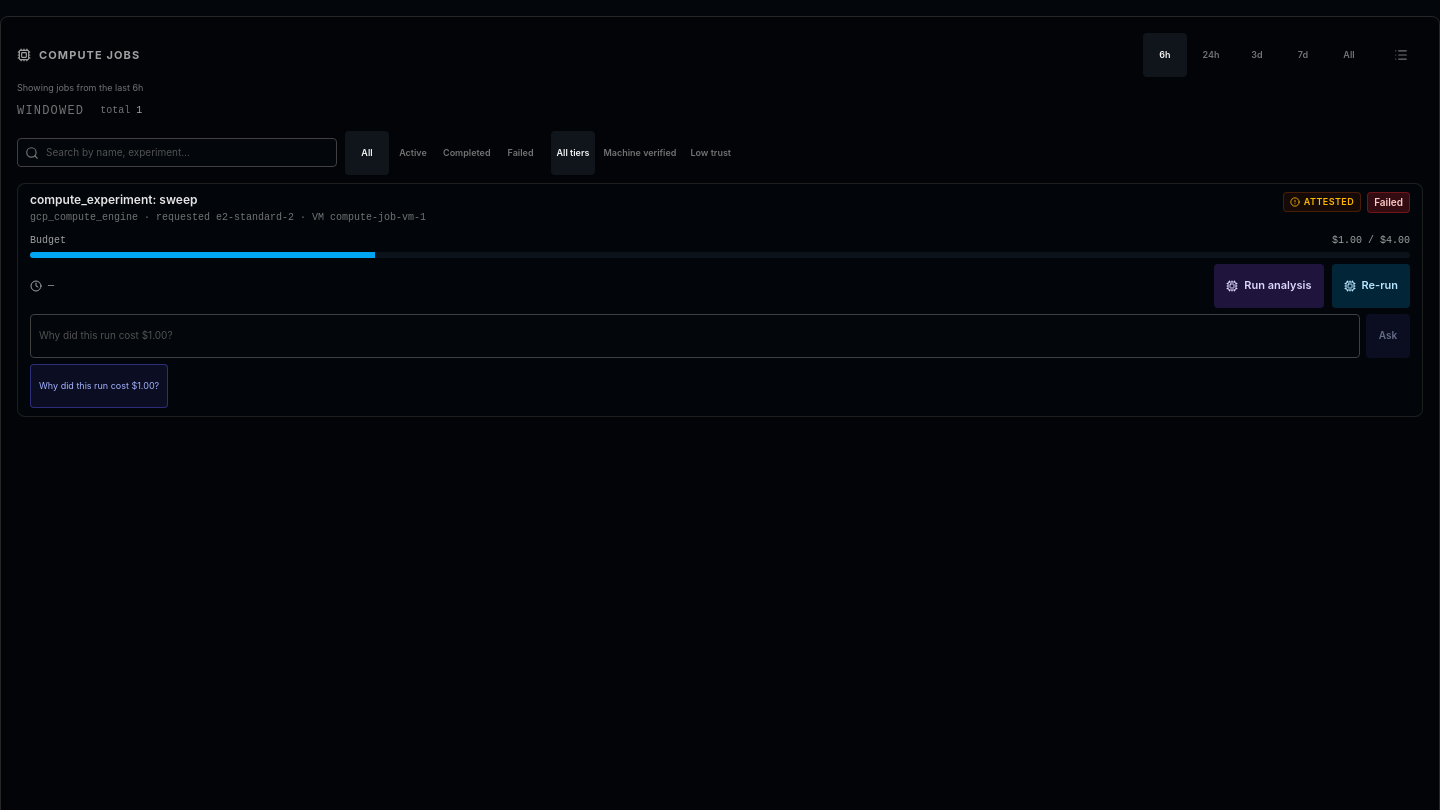
ComputeJobsPanel render + kill › run analysis surfaces backend errors inline
Click the button "Run analysis" at {"x": 1269, "y": 286}, box [1214, 264, 1324, 308]
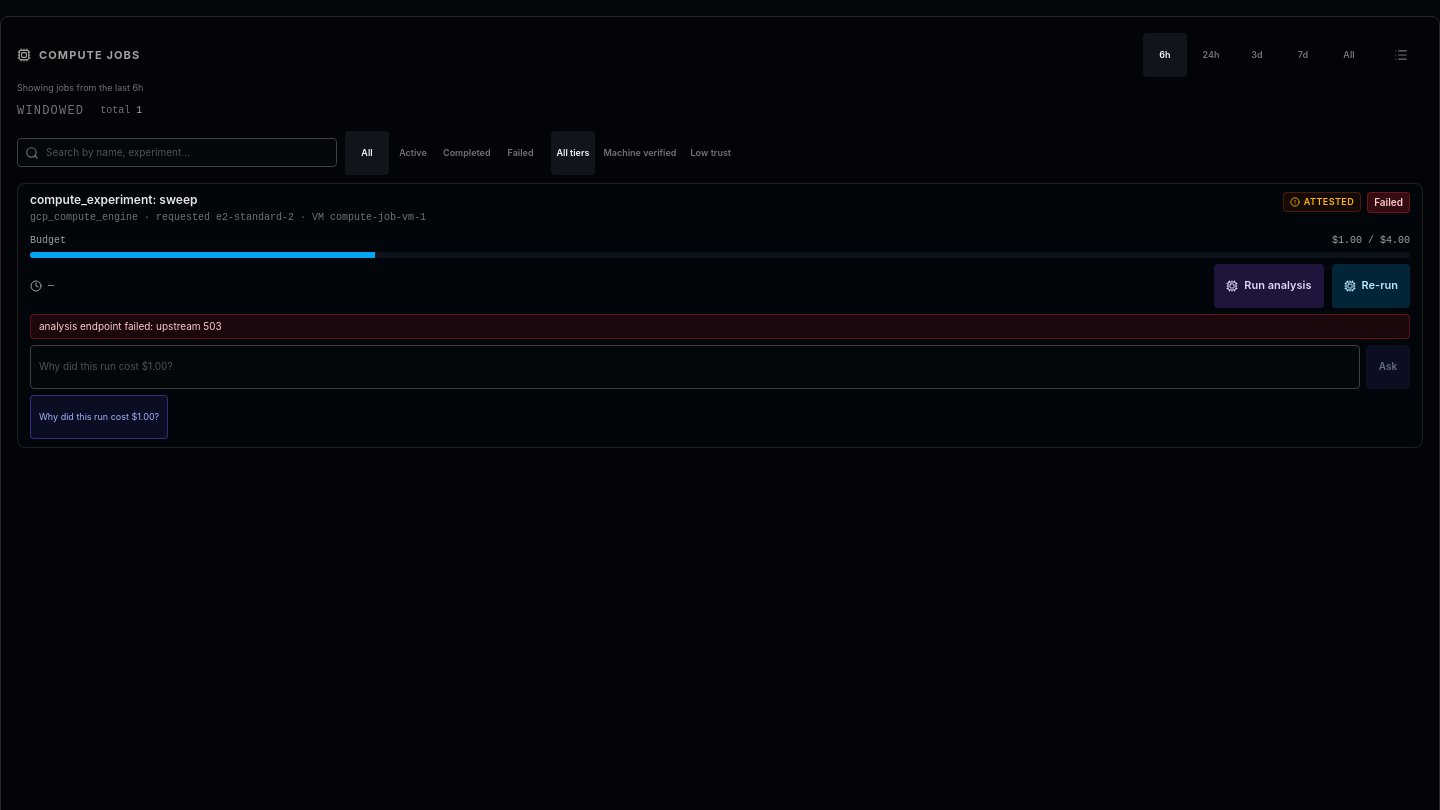
Result: the text "analysis endpoint failed: upstream 503" is shown at [30, 314, 1410, 338]
